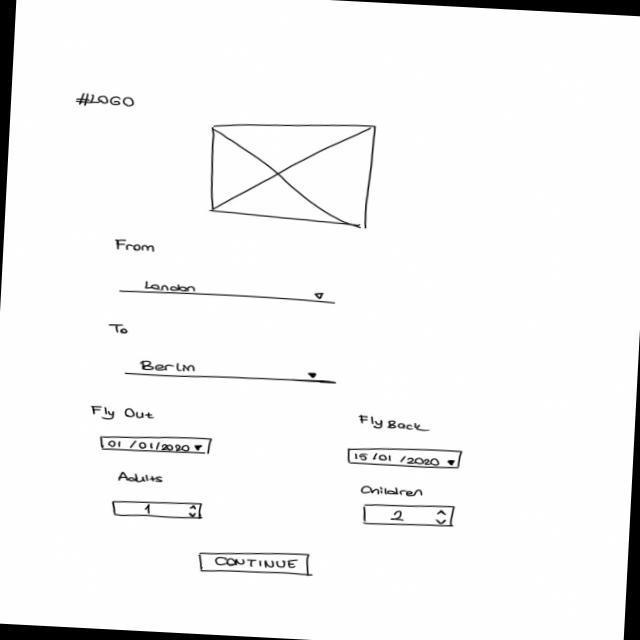button: (197, 547, 314, 581)
image: (207, 117, 381, 232)
label: (357, 415, 434, 435), (90, 405, 158, 426), (75, 90, 139, 111), (359, 485, 428, 499), (115, 471, 166, 487), (113, 239, 160, 255), (107, 321, 134, 337)
number-input: (362, 502, 459, 533), (113, 498, 206, 523)
select: (125, 358, 341, 388), (119, 279, 340, 307), (347, 445, 467, 473), (99, 432, 215, 459)
